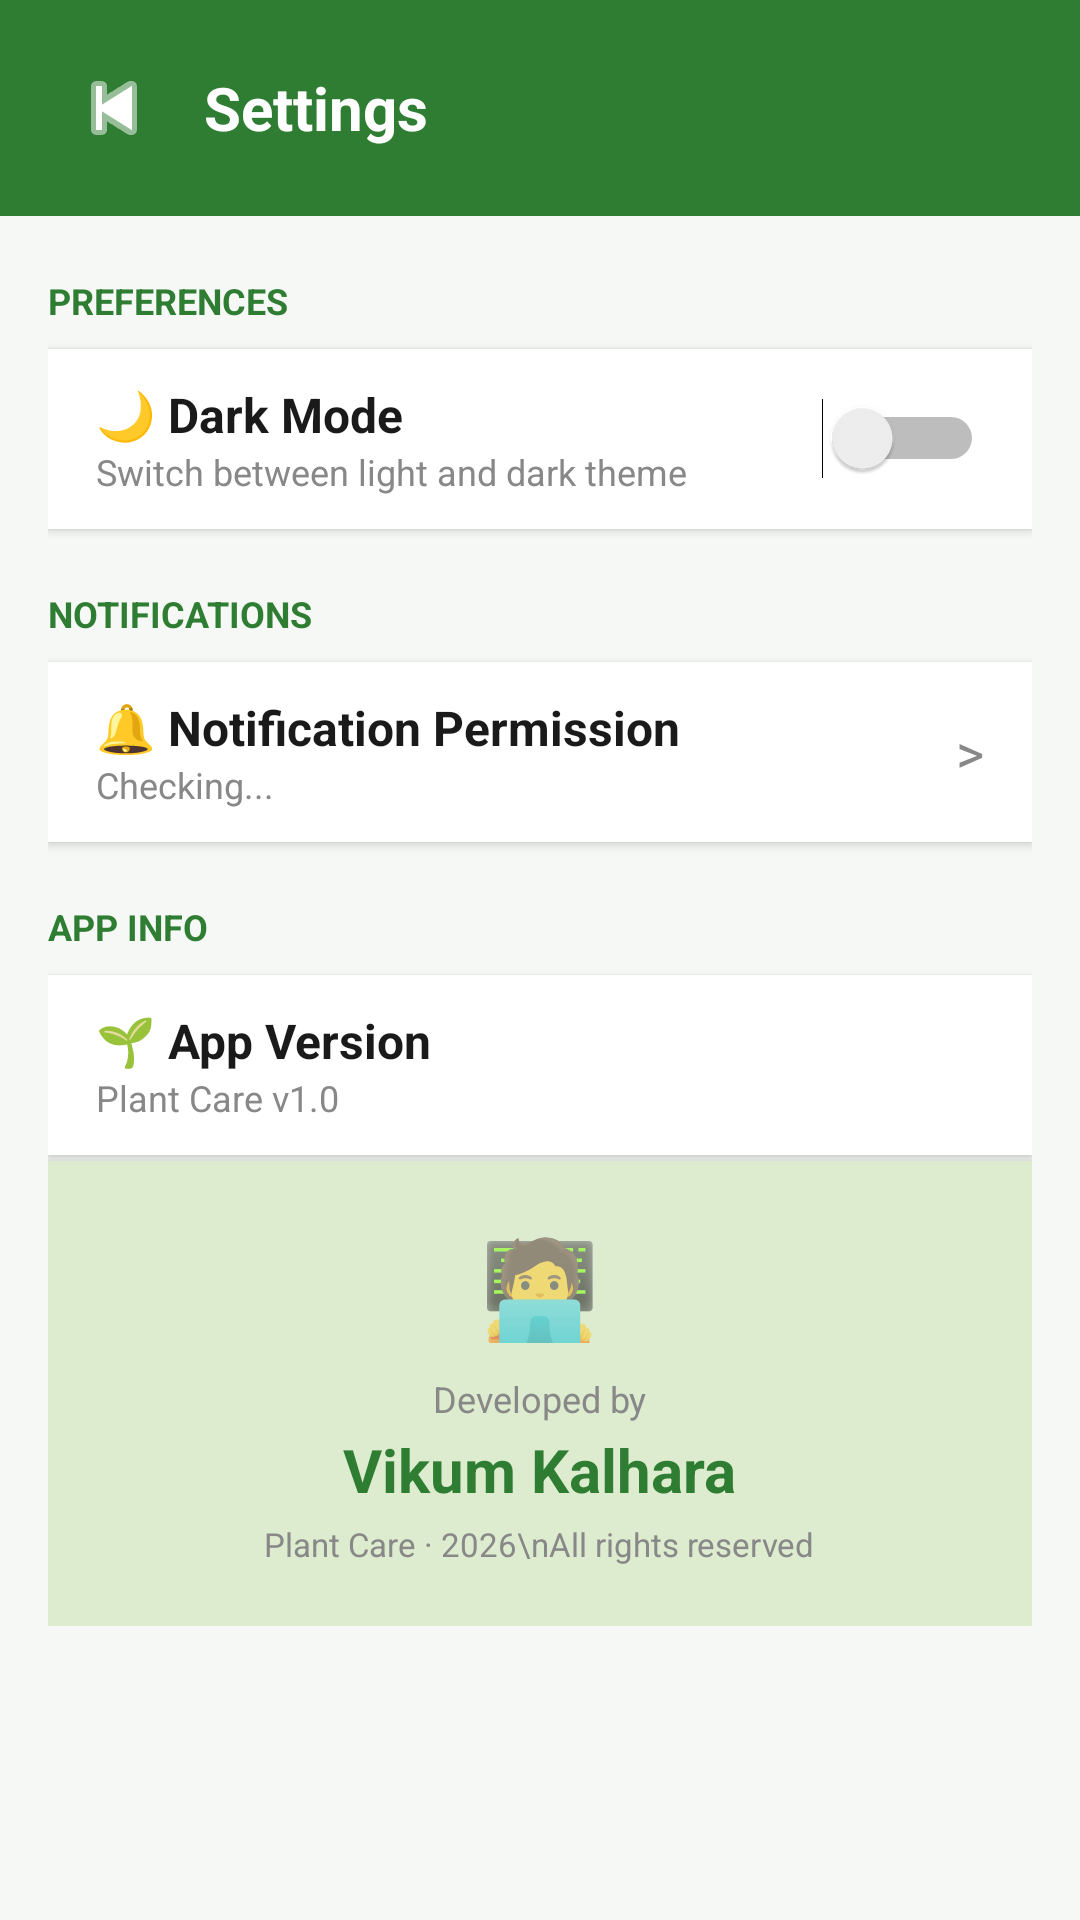

Named icons in this screenshot (1080w x 1920h) and their centers, (x=x, y=y):
Back: (x=114, y=108)
